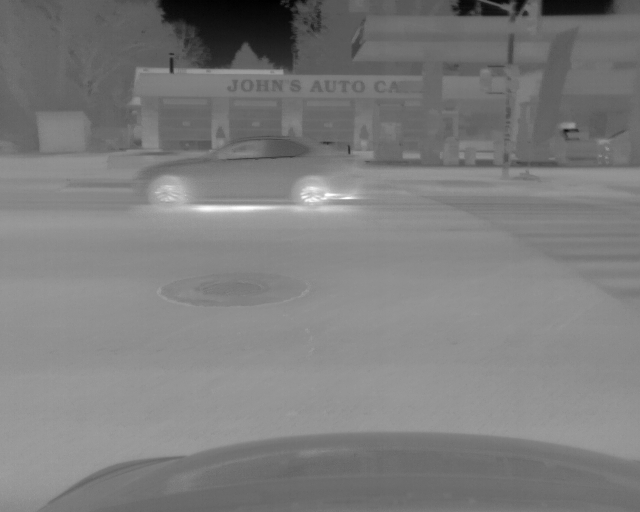car: (134, 135, 364, 210)
